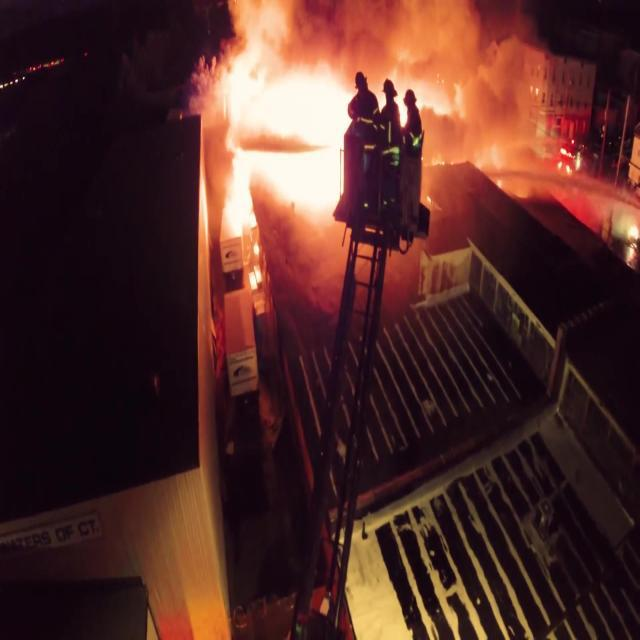Fire: (226, 71, 469, 141)
Smoke: (234, 0, 540, 78)
